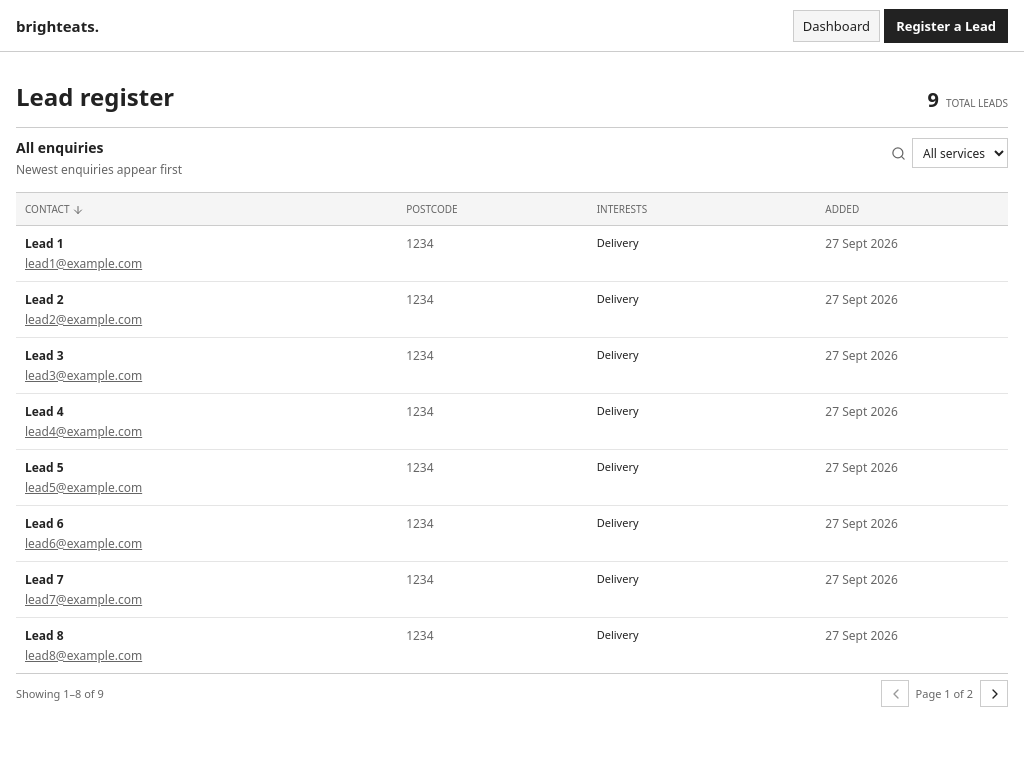
Test: paginates and filters the lead list
Expected: the text "Page 1 of 2" is shown, [916,686,973,701]
Click the button named "Next page" at point(994, 694), box [980,680,1008,707]
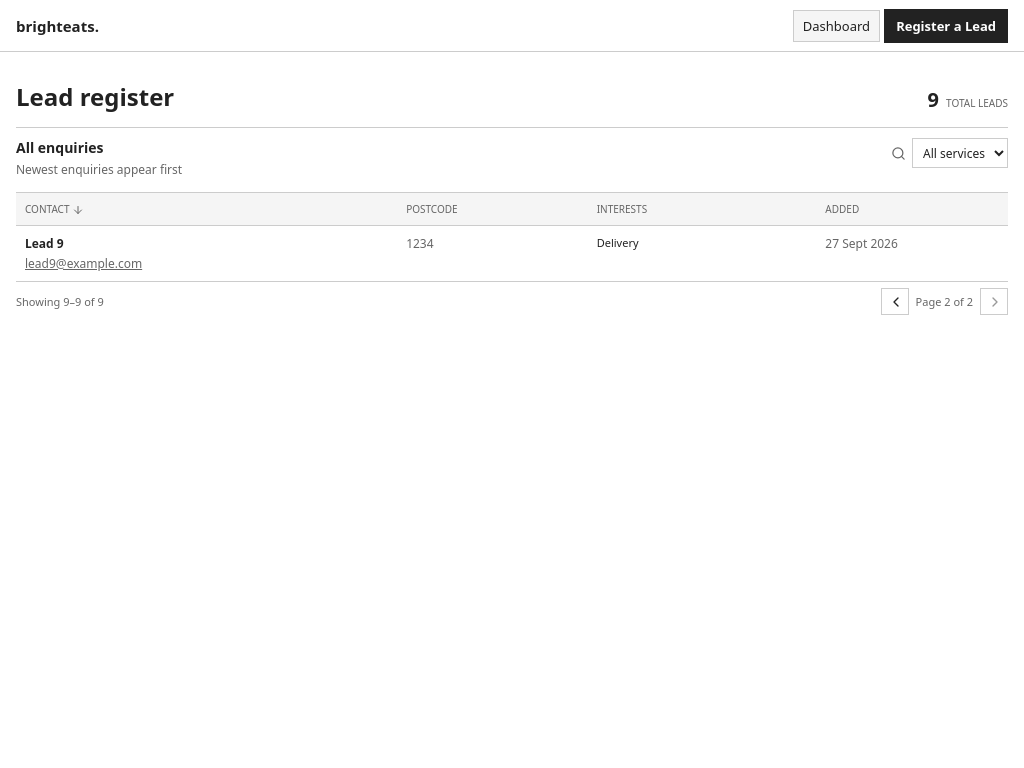
Expected: the text "Page 2 of 2" is shown, [916,294,973,309]
Expected: the text "Lead 9" is shown, [25,234,64,252]
Select "Delivery" in the dropdown named "Filter leads by service" at point(960, 153), box [912,138,1008,168]
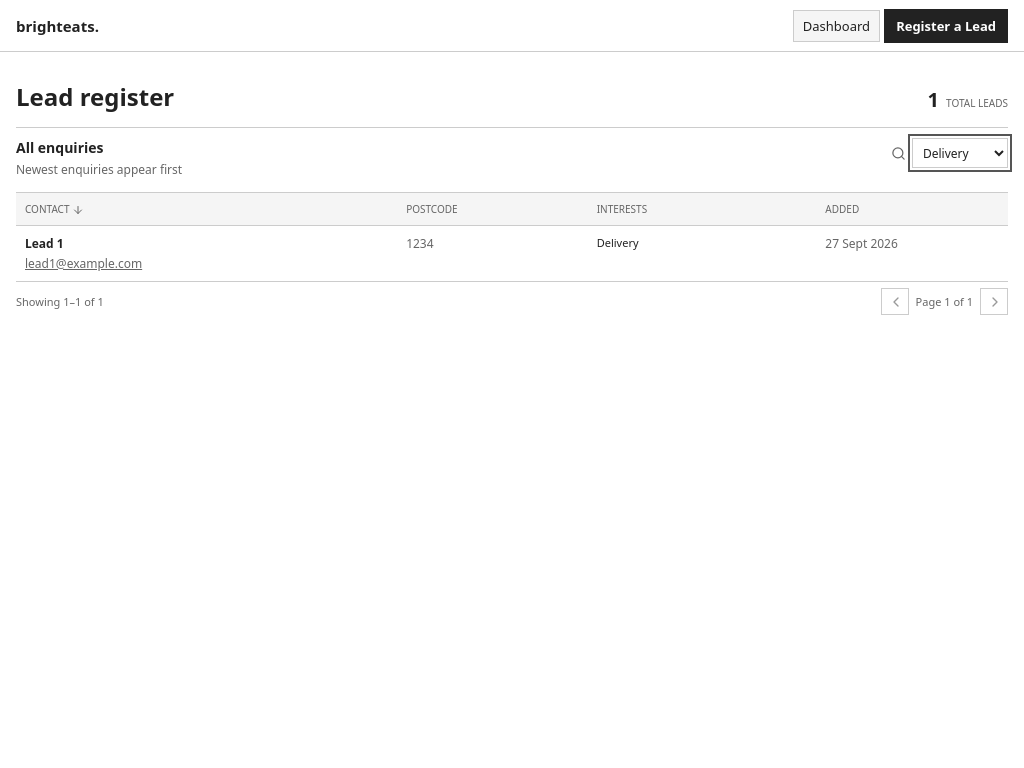
Expected: the text "Page 1 of 1" is shown, [916,294,973,309]
Expected: the text "Lead 1" is shown, [25,234,64,252]
